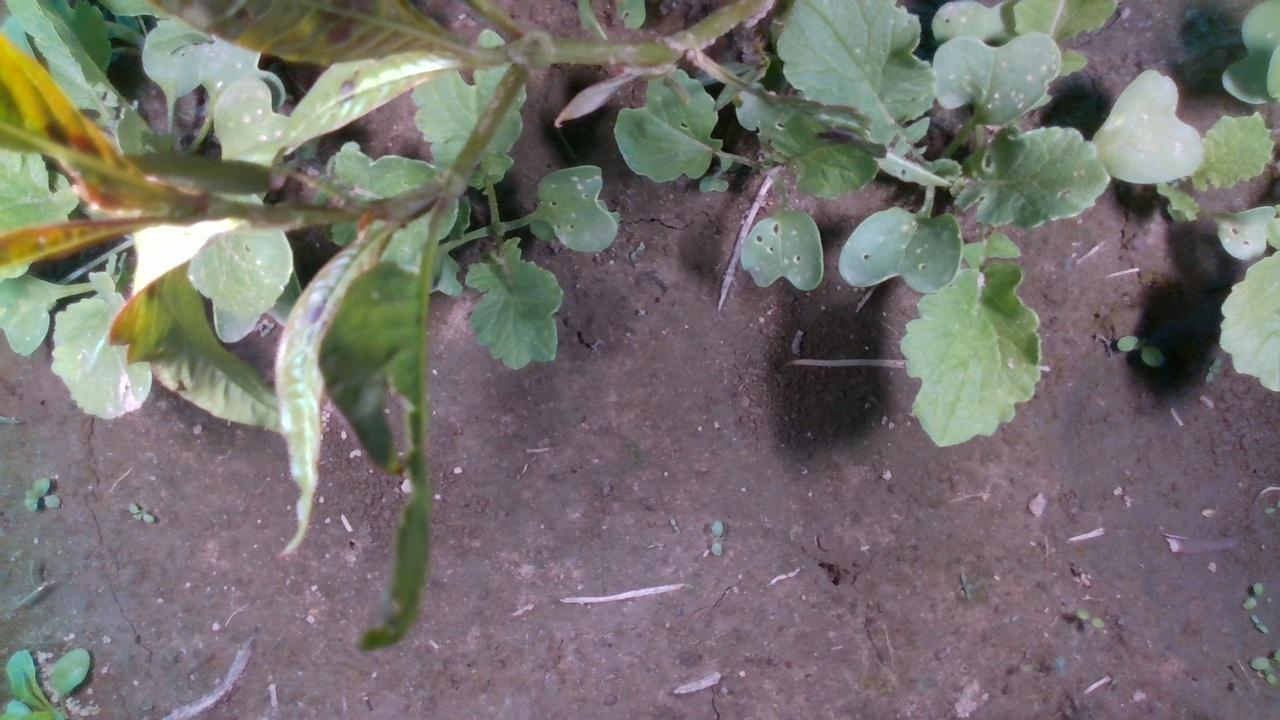weed: (1114, 332, 1163, 366), (21, 476, 61, 510), (1072, 606, 1104, 629), (1239, 581, 1264, 610), (126, 500, 155, 524), (1203, 354, 1222, 383), (708, 518, 722, 555), (956, 568, 972, 599), (1247, 611, 1267, 635)
